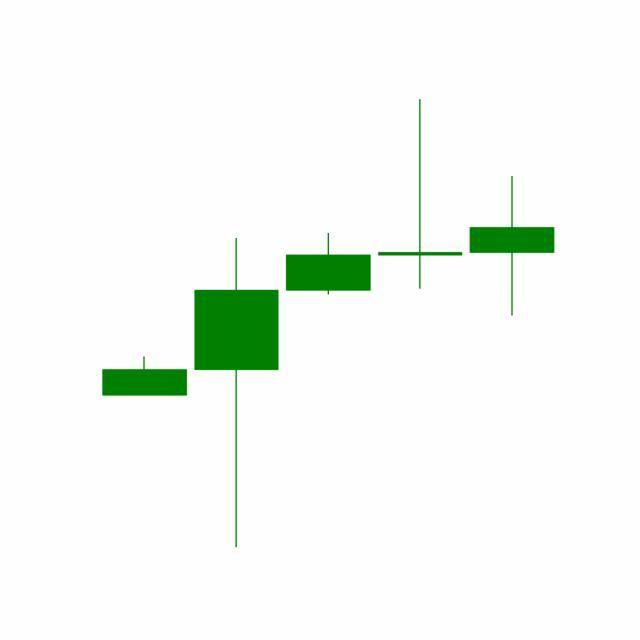Spinning Top: (466, 175, 559, 319)
